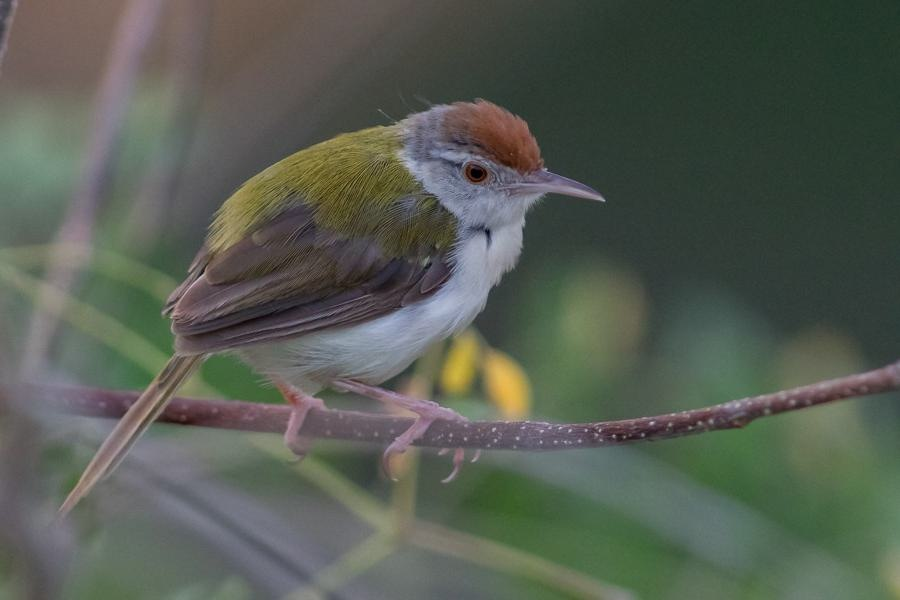tailorbird: (107, 96, 599, 439)
